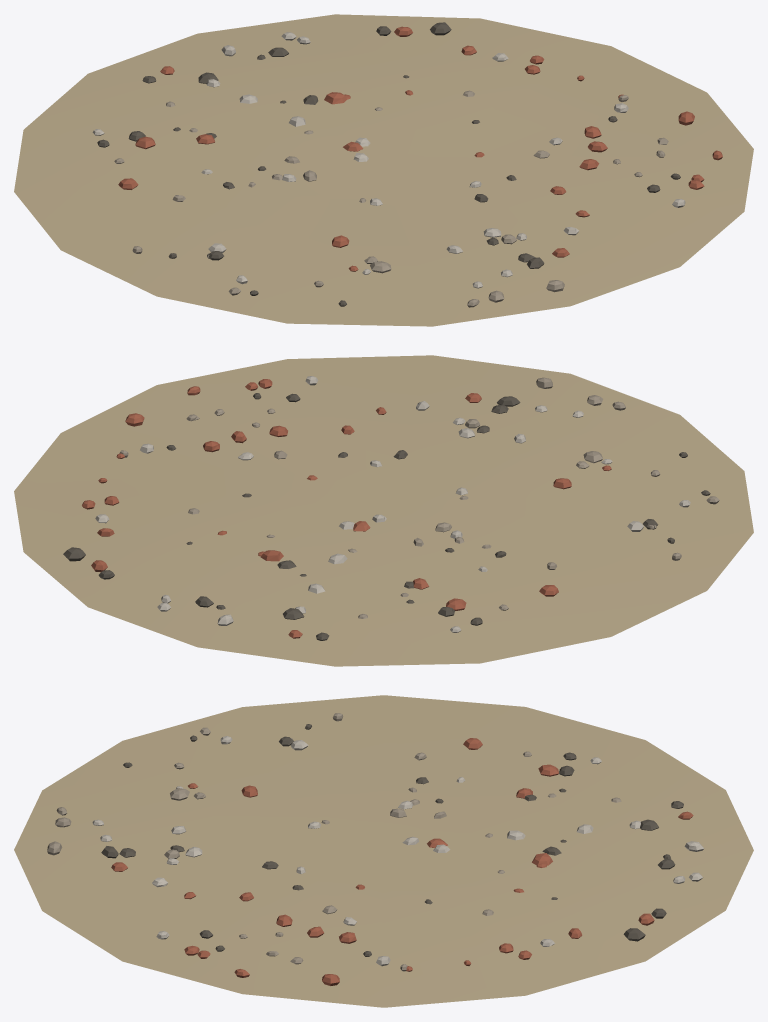
File: lake-gravel-shallows-0.glb
3 views of the same model, one above another, from view 1: azimuth 30°, elevation 25°; view 2: azimuth 150°, elevation 25°; view 3: azimuth 270°, elevation 25° (orthographic).
Parts seen in each view (by area): view 1: lake-gravel-shallows-0; view 2: lake-gravel-shallows-0; view 3: lake-gravel-shallows-0.
Part boxes in pixels (x1,y1,x2,y2): lake-gravel-shallows-0: (14,14,753,326); lake-gravel-shallows-0: (14,355,753,666); lake-gravel-shallows-0: (14,695,753,1007).
Bounding box in the file's own units: 3 × 0.054 × 3.
